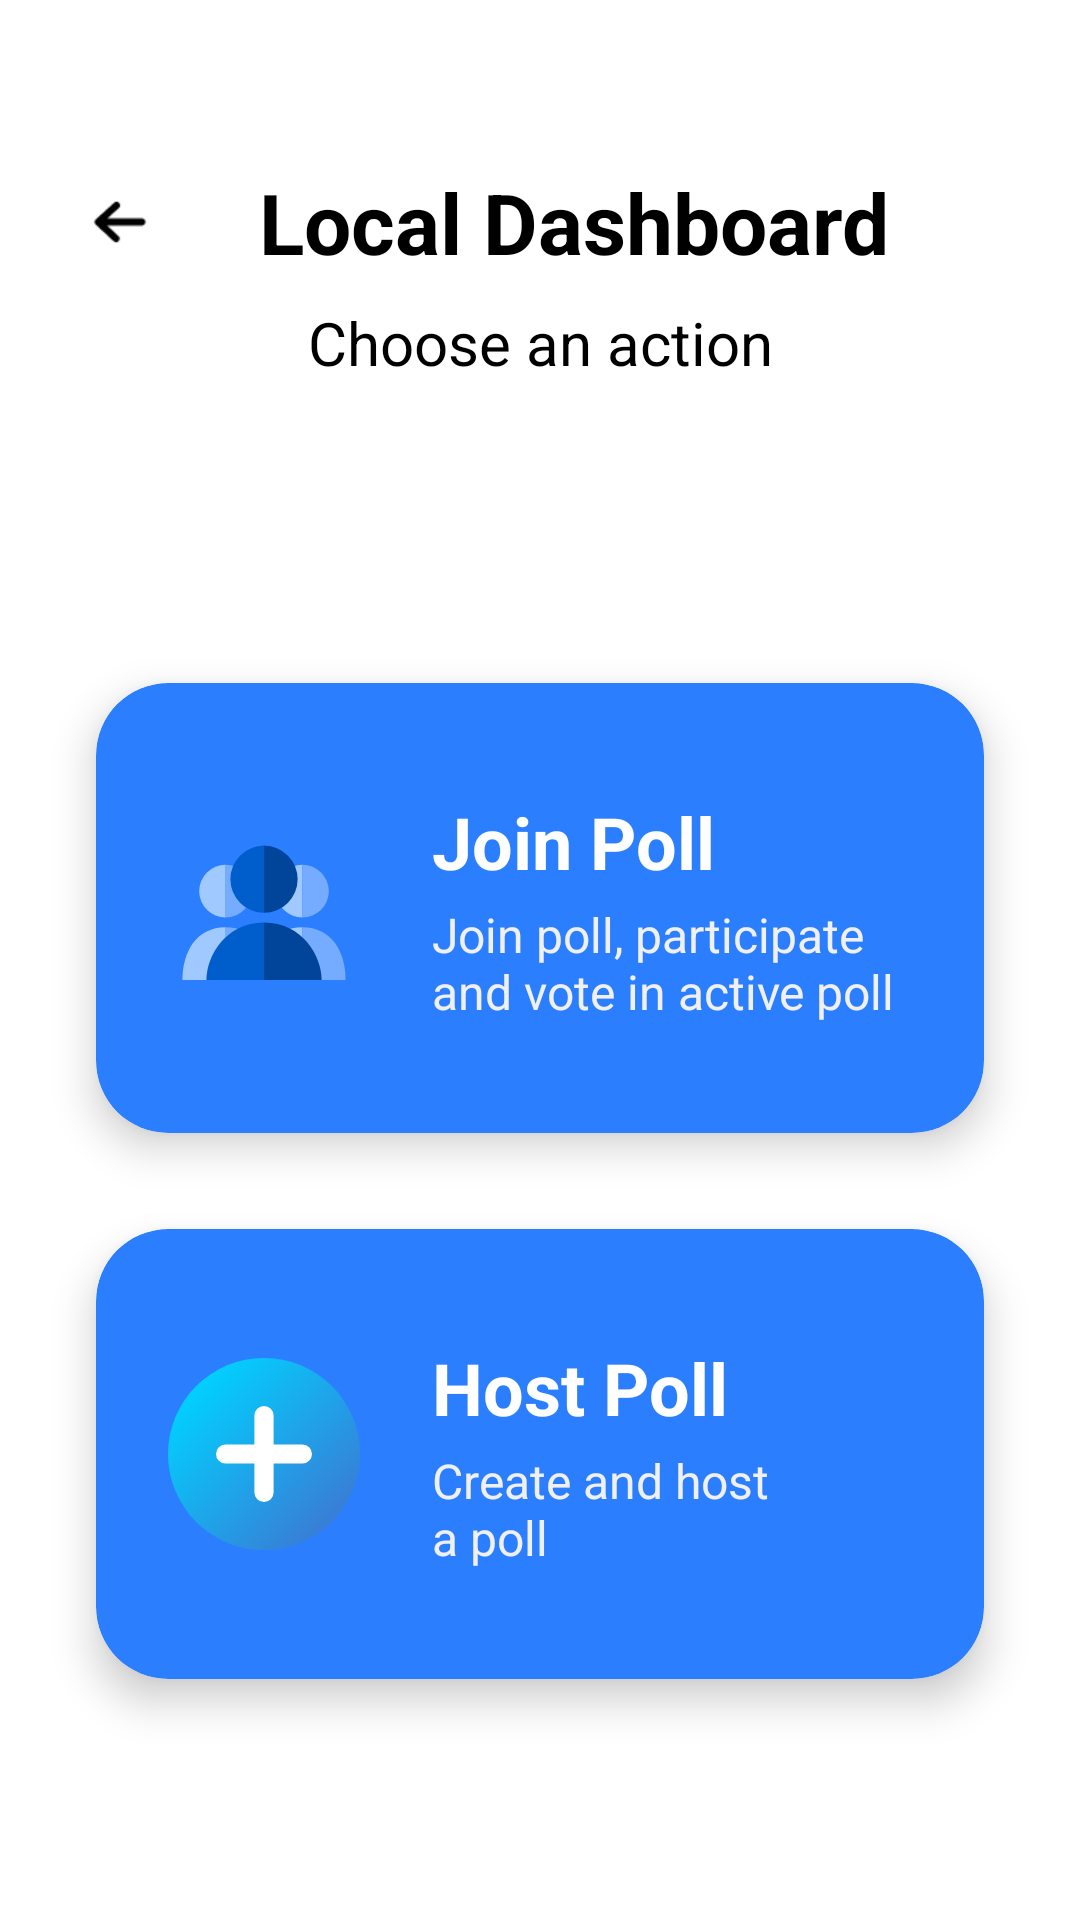

Screen size 1080*1920. Icon name, then its box in pixels as [x1,y1,x2,y2]:
add circle local: [168,1358,360,1550]
back arrow: [94,201,146,243]
people local: [182,845,346,980]
